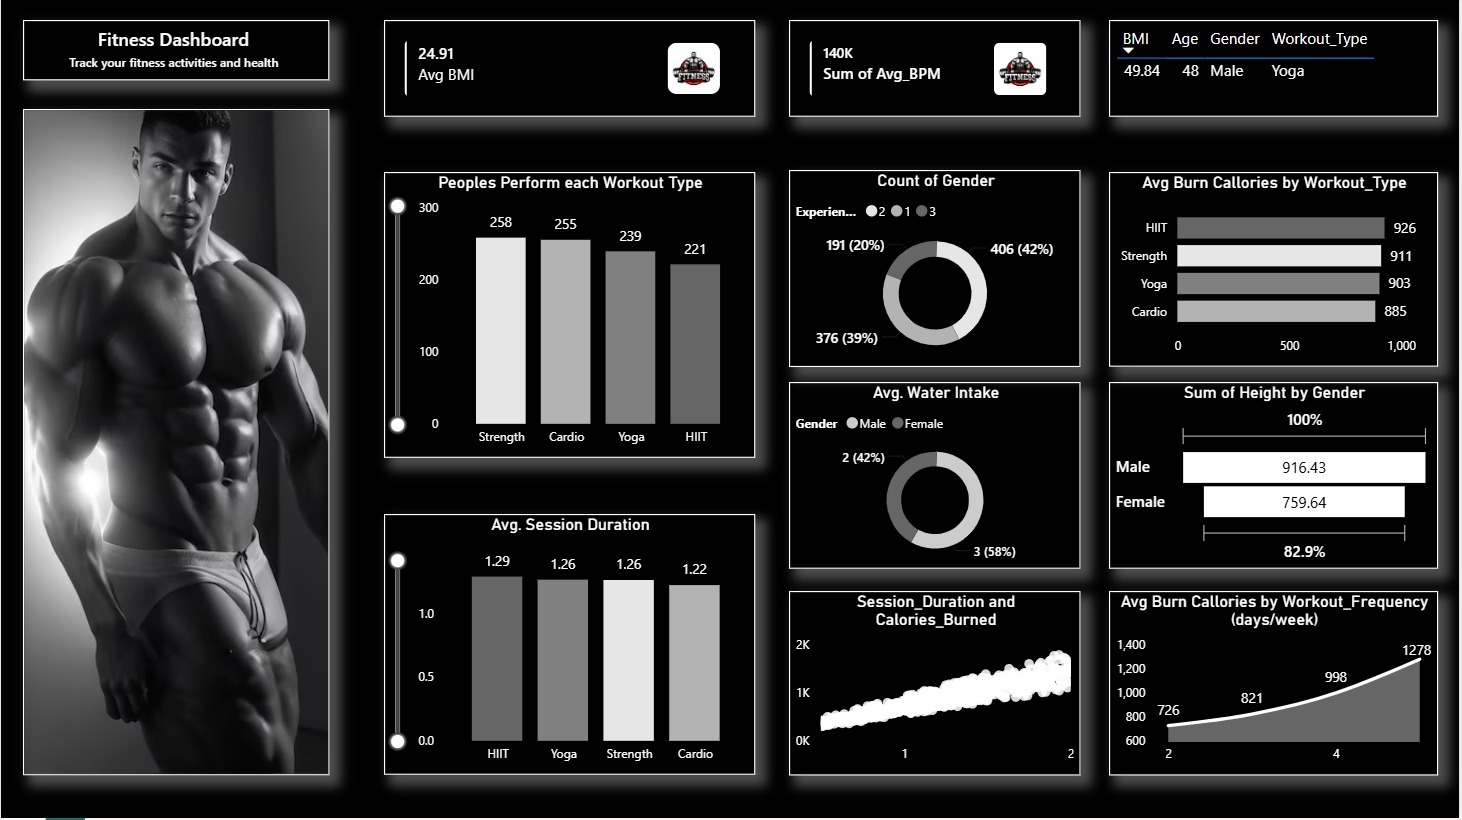

This screenshot's page, from the dashboard's own definition file:
{"tool":"powerbi","page":{"name":"Page 1","canvas":[1280,720],"ordinal":0},"visuals":[{"type":"clusteredColumnChart","title":"Peoples Perform each Workout Type","fields":{"Category":["gym data (2).Workout_Type"],"Y":["CountNonNull(gym data (2).Workout_Type)"]},"box":[336.3,152.8,325.8,251.1],"z":0},{"type":"clusteredBarChart","fields":{"Y":["gym data (2).Avg Burn Callories"],"Category":["gym data (2).Workout_Type"]},"box":[972.9,152.8,288.9,171.2],"z":1000},{"type":"clusteredColumnChart","title":"Avg. Session Duration","fields":{"Y":["gym data (2).Avg. Session Duration"],"Category":["gym data (2).Workout_Type"]},"box":[336.3,453.1,325.8,229.2],"z":2000},{"type":"tableEx","fields":{"Values":["gym data (2).BMI","gym data (2).Age","gym data (2).Gender","gym data (2).Workout_Type"]},"box":[972.7,19.1,289.1,85.5],"z":3000},{"type":"donutChart","title":"Avg. Water Intake","fields":{"Y":["gym data (2).Avg. Water Intake"],"Category":["gym data (2).Gender"]},"box":[691.9,337.2,256.4,164.2],"z":4000},{"type":"donutChart","title":"Count of Gender","fields":{"Y":["CountNonNull(gym data (2).Gender)"],"Category":["gym data (2).Experience_Level"]},"box":[691.9,151,256.4,173],"z":5000},{"type":"lineChart","fields":{"Y":["gym data (2).Avg Burn Callories"],"Category":["gym data (2).Workout_Frequency (days/week)"]},"box":[972.9,520.7,288.9,161.6],"z":6000},{"type":"scatterChart","title":"Session_Duration and Calories_Burned","fields":{"X":["gym data (2).Session_Duration (hours)"],"Y":["gym data (2).Calories_Burned"]},"box":[691.9,520.7,256.4,161.6],"z":7000},{"type":"textbox","box":[19.3,19.3,268.7,52.7],"z":8000},{"type":"cardVisual","fields":{"Data":["gym data (2).Avg BMI"]},"box":[336.3,19.3,325.8,85.2],"z":9000},{"type":"image","box":[19.3,97.5,268.7,584.8],"z":10000},{"type":"funnel","title":"Sum of Height by Gender","fields":{"Category":["gym data.Gender"],"Y":["Sum(gym data.Height (m))"]},"box":[972.9,337.2,288.9,164.2],"z":11000},{"type":"cardVisual","fields":{"Data":["Sum(gym data.Avg_BPM)"]},"box":[691.8,19.1,256.4,85.5],"z":12000}]}

Visuals, with their boxes in screenshot pixels (x1, y1, x2, y2), scaled from the page's 1280x720 canvas onto the 1462x820 screenshot:
"Peoples Perform each Workout Type" clusteredColumnChart: 384/174/756/460
clusteredBarChart - gym data (2).Avg Burn Callories x gym data (2).Workout_Type: 1111/174/1441/369
"Avg. Session Duration" clusteredColumnChart: 384/516/756/777
tableEx - gym data (2).BMI x gym data (2).Age: 1111/22/1441/119
"Avg. Water Intake" donutChart: 790/384/1083/571
"Count of Gender" donutChart: 790/172/1083/369
lineChart - gym data (2).Avg Burn Callories x gym data (2).Workout_Frequency (days/week): 1111/593/1441/777
"Session_Duration and Calories_Burned" scatterChart: 790/593/1083/777
textbox: 22/22/329/82
cardVisual - gym data (2).Avg BMI: 384/22/756/119
image: 22/111/329/777
"Sum of Height by Gender" funnel: 1111/384/1441/571
cardVisual - Sum(gym data.Avg_BPM): 790/22/1083/119
